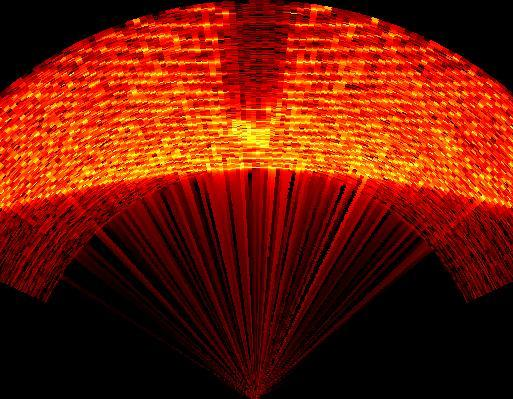box_crate: (215, 2, 298, 151)
